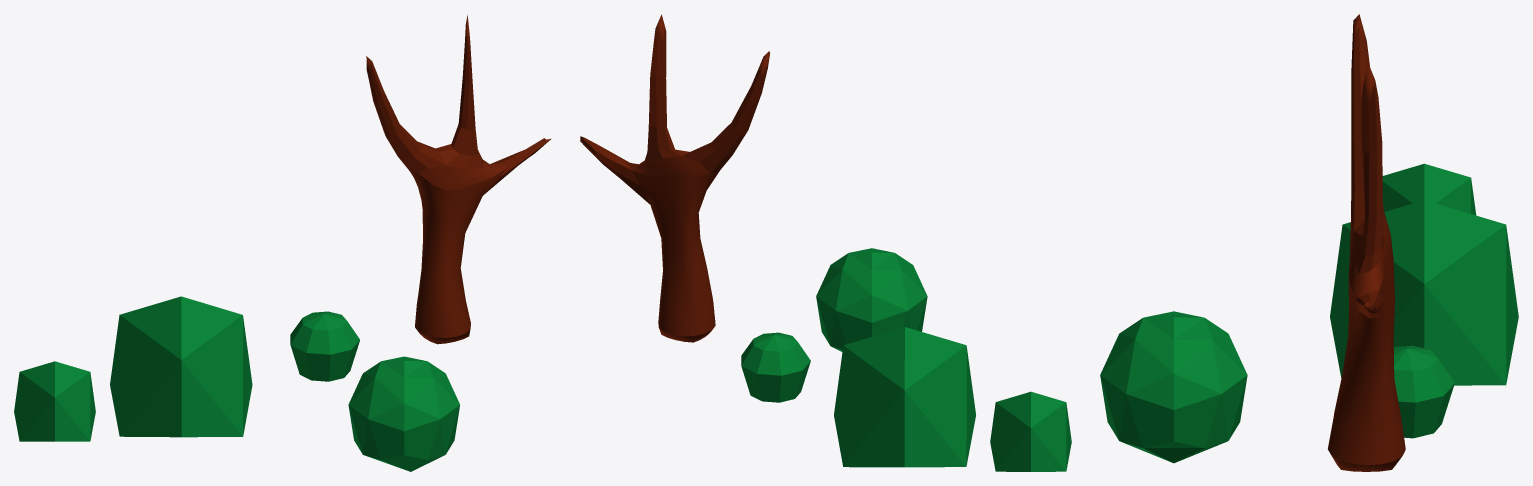
File: tree.fbx
The picture shows the model from 3 angles, left to right: view 1: azimuth 30°, elevation 25°; view 2: azimuth 150°, elevation 25°; view 3: azimuth 270°, elevation 25°; orthographic projection. The views are drawn at different scales.
Parts seen in each view (by area): view 1: Foliage_1_Big, Tree_1, Foliage_3, Foliage_1_Small, Foliage_2; view 2: Foliage_1_Big, Tree_1, Foliage_3, Foliage_1_Small, Foliage_2; view 3: Foliage_1_Big, Tree_1, Foliage_3, Foliage_2, Foliage_1_Small.
Boxes of the visible parts, x1,y1,x2,y2 form: Foliage_1_Big: (110, 296, 252, 437); Tree_1: (366, 15, 551, 344); Foliage_3: (348, 356, 459, 471); Foliage_1_Small: (14, 361, 95, 441); Foliage_2: (290, 311, 359, 381); Foliage_1_Big: (834, 327, 975, 467); Tree_1: (580, 14, 769, 342); Foliage_3: (816, 248, 927, 351); Foliage_1_Small: (990, 391, 1071, 471); Foliage_2: (741, 332, 810, 402); Foliage_1_Big: (1330, 200, 1518, 385); Tree_1: (1328, 14, 1405, 471); Foliage_3: (1100, 311, 1247, 463); Foliage_2: (1393, 345, 1454, 438); Foliage_1_Small: (1382, 163, 1476, 215).
Size of the model in its own units: 139 by 94.68 by 75.09.
